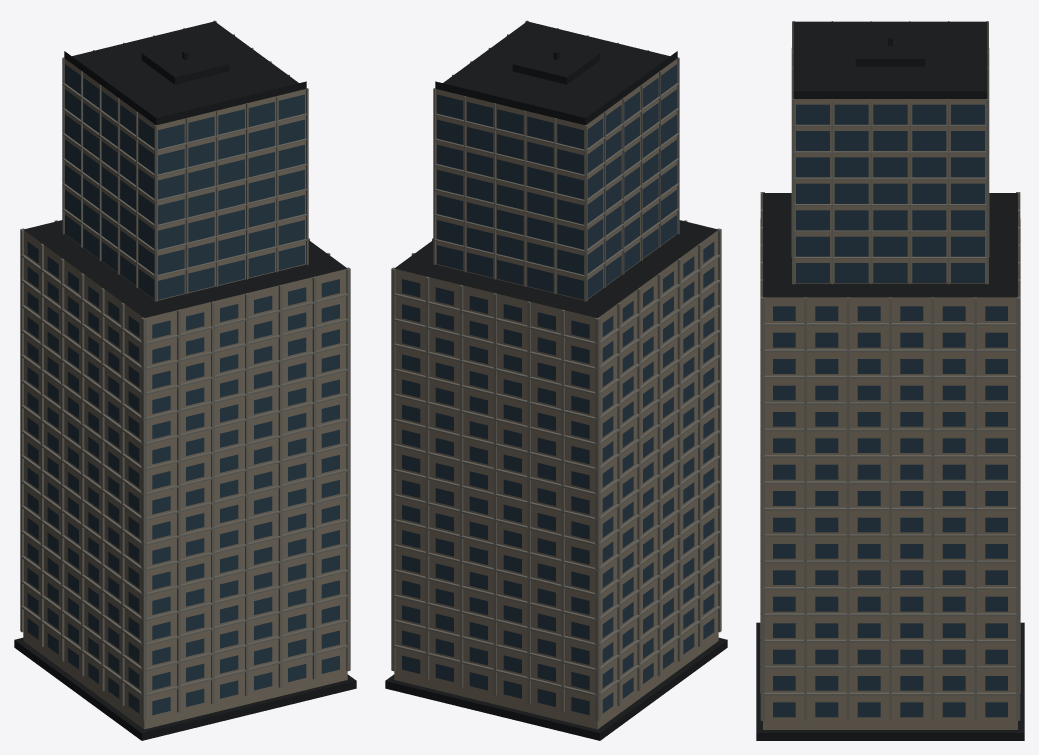
Rendered from office-03.glb.
The picture shows the model from 3 angles, left to right: view 1: azimuth 30°, elevation 25°; view 2: azimuth 150°, elevation 25°; view 3: azimuth 270°, elevation 25°; orthographic projection. The views are drawn at different scales.
Parts seen in each view (by area): view 1: stepped-tower; view 2: stepped-tower; view 3: stepped-tower.
Part boxes in pixels (x1,y1,x2,y2): stepped-tower: (14, 20, 356, 740); stepped-tower: (385, 20, 727, 740); stepped-tower: (756, 21, 1024, 740).
Bounding box in the file's own units: 33.77 × 92.53 × 34.76.
